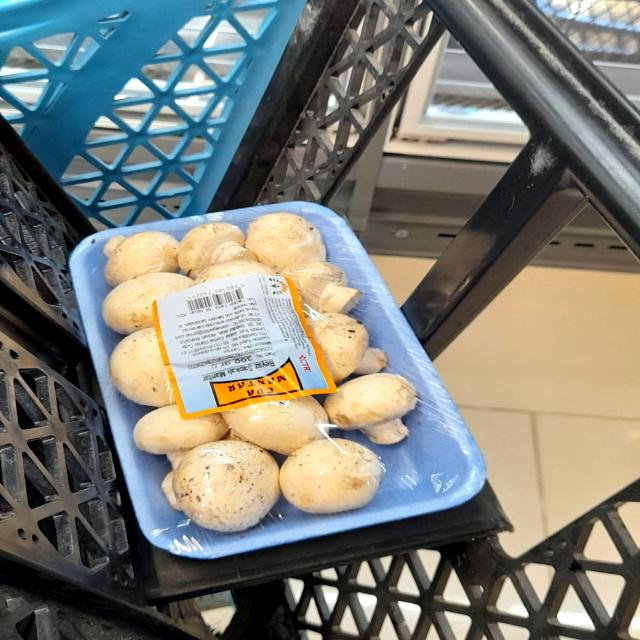mushroom: (153, 435, 287, 535), (277, 437, 399, 519), (320, 367, 439, 445), (94, 223, 190, 286), (243, 214, 336, 279)
